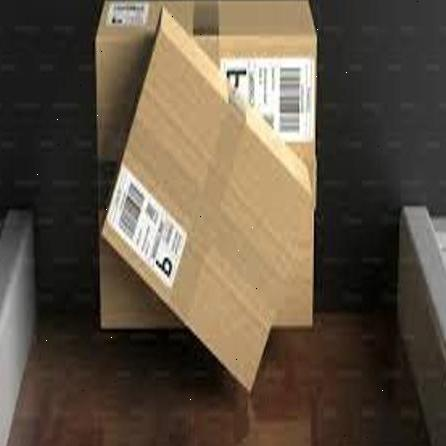Other: (102, 12, 323, 394), (95, 1, 321, 332)
